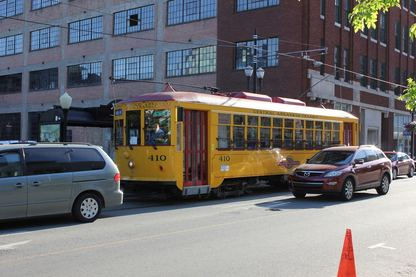bus: (107, 75, 363, 201)
car: (287, 145, 393, 202), (383, 151, 416, 179)
